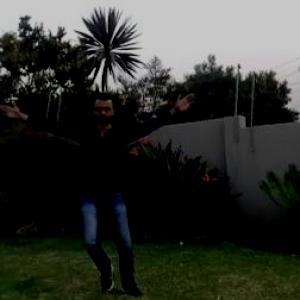takeoff: (1, 86, 195, 288)
